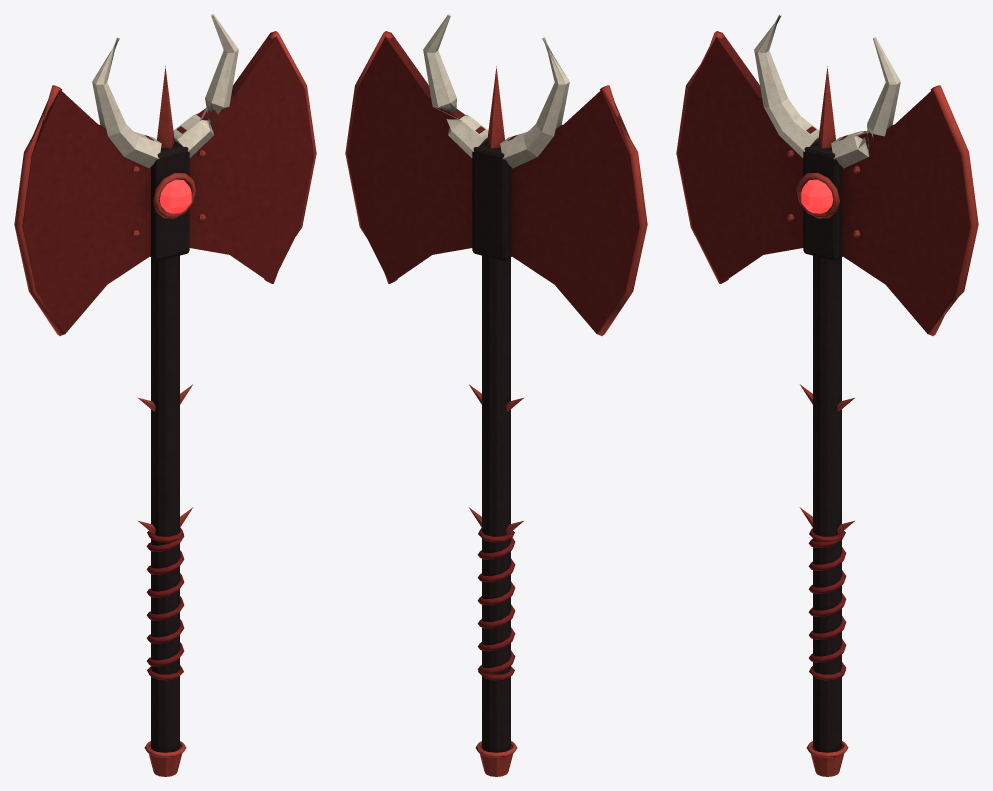
The model's file is 07_hell_heavy.fbx.
3 renders of one model, left to right at view 1: azimuth 30°, elevation 25°; view 2: azimuth 150°, elevation 25°; view 3: azimuth 330°, elevation 25°, orthographic.
Parts seen in each view (by area): view 1: Weapon; view 2: Weapon; view 3: Weapon.
Boxes of the visible parts, x1,y1,x2,y2 form: Weapon: [14, 14, 316, 776]; Weapon: [345, 14, 647, 776]; Weapon: [676, 14, 978, 776].
Size of the model in its own units: 58.85 by 140 by 9.7.
2 materials, 1 textured.
